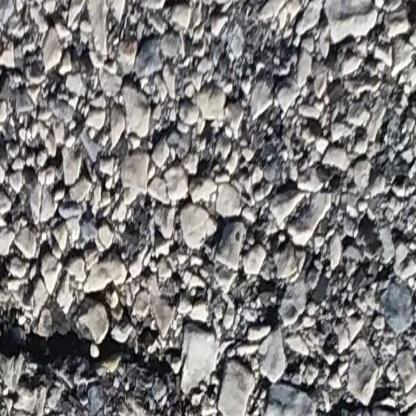Cracks: (0, 309, 216, 416)
